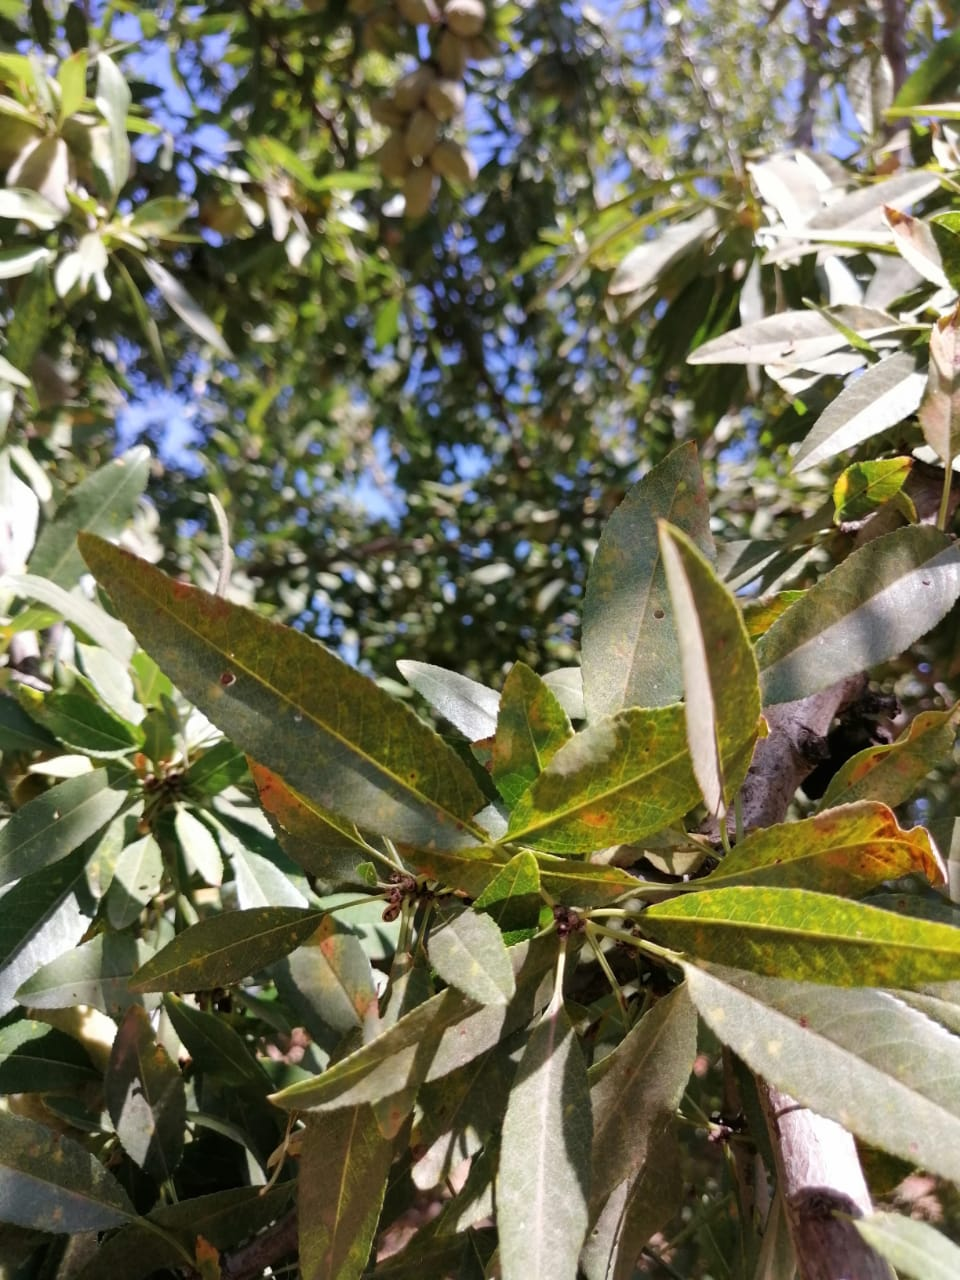rouille: (74, 530, 509, 865), (687, 946, 960, 1184)
